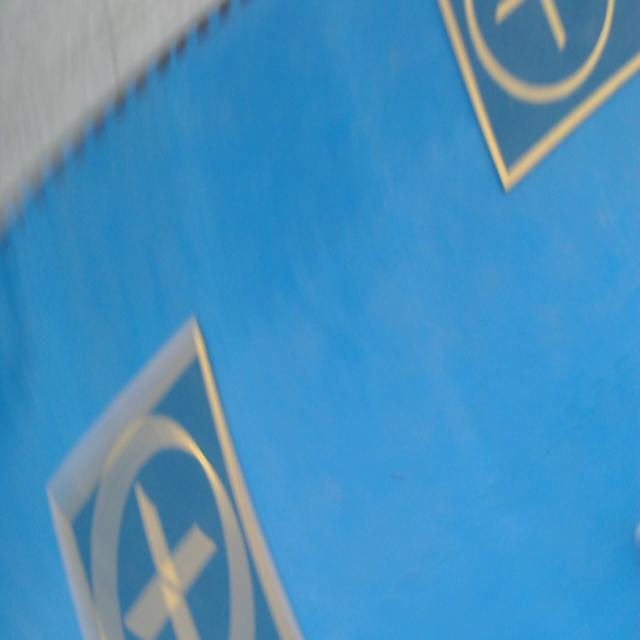base_pouso: (47, 313, 306, 639), (434, 0, 639, 195)
